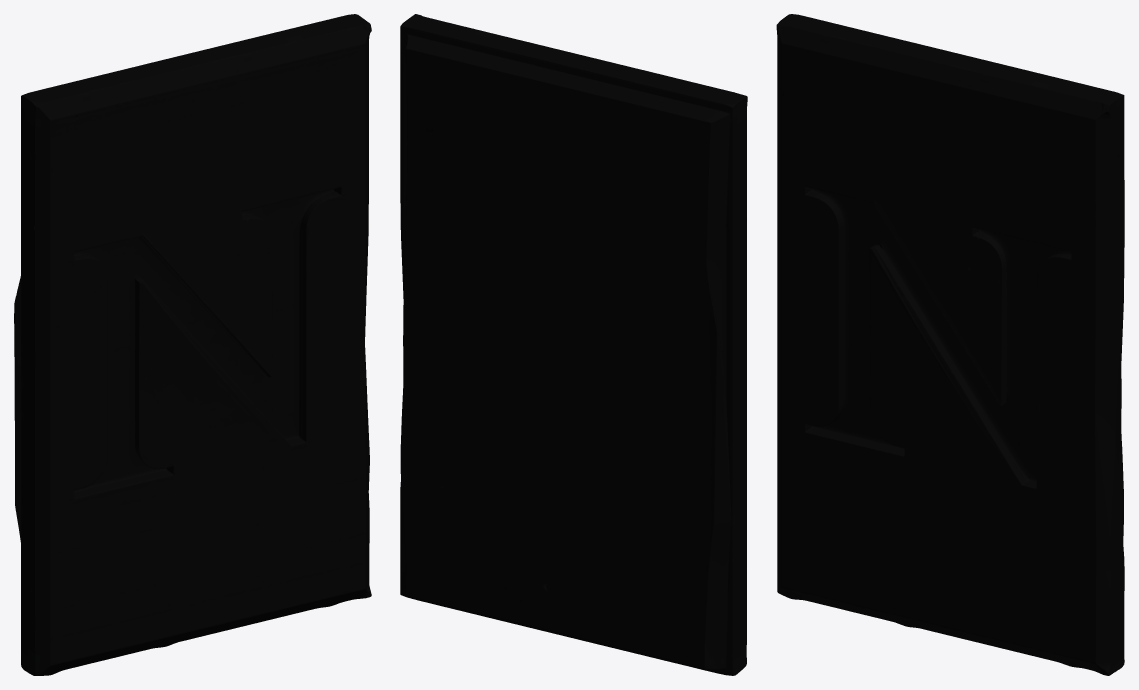
The model's file is N-Monolith.glb.
3 renders of one model, left to right at view 1: azimuth 30°, elevation 25°; view 2: azimuth 150°, elevation 25°; view 3: azimuth 330°, elevation 25°, orthographic.
Parts seen in each view (by area): view 1: material; view 2: material; view 3: material.
Part boxes in pixels (left/top/right/bottom): material: left=14, top=14, right=371, bottom=675; material: left=400, top=14, right=747, bottom=675; material: left=776, top=14, right=1124, bottom=675.
Bounding box in the file's own units: 0.6251 × 1.02 × 0.1038.
1 material, 1 textured.
